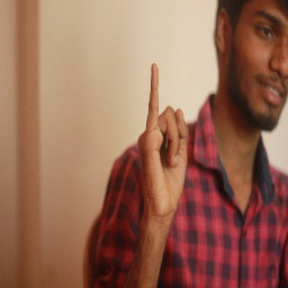I: (138, 65, 190, 212)
